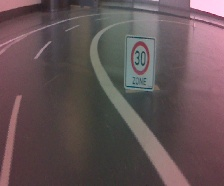zone 30 sign: (123, 33, 157, 92)
